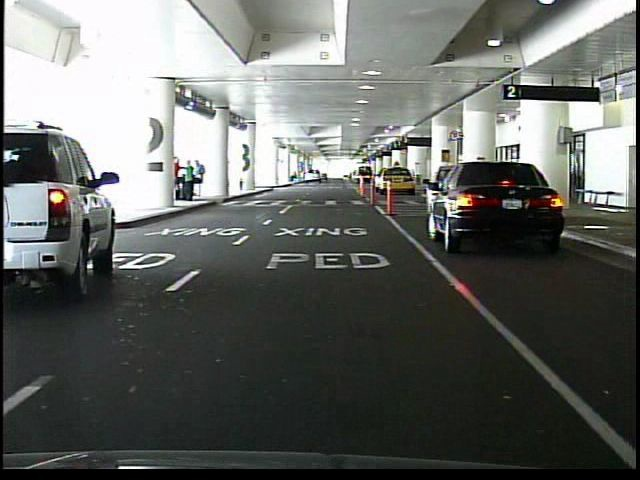person: (183, 160, 196, 203), (195, 160, 207, 199)
